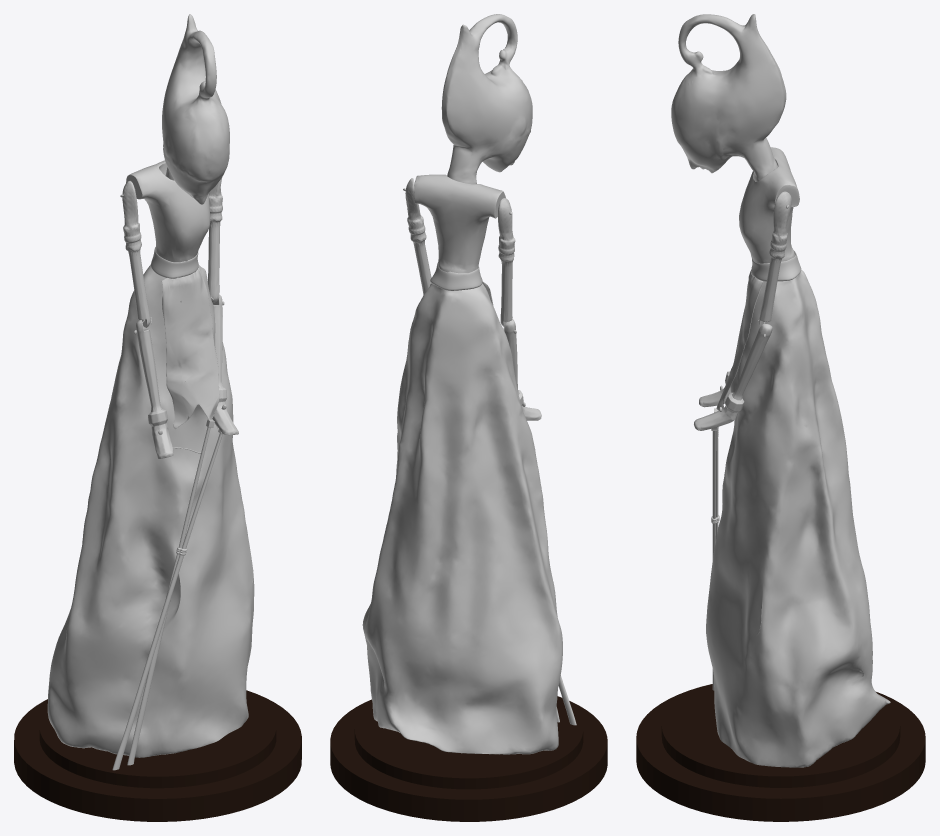
Rendered from hantu_wayang.obj.
3 renders of one model, left to right at view 1: azimuth 30°, elevation 25°; view 2: azimuth 150°, elevation 25°; view 3: azimuth 270°, elevation 25°, orthographic. The views are drawn at different scales.
Parts seen in each view (by area): view 1: Wayang_Batik_Skirt, Wayang_Body_Arms, Wayang_Pedestal_Base, Wayang_Head_Gelung, Wayang_Pedestal_Tier; view 2: Wayang_Batik_Skirt, Wayang_Pedestal_Base, Wayang_Head_Gelung, Wayang_Body_Arms, Wayang_Pedestal_Tier; view 3: Wayang_Batik_Skirt, Wayang_Head_Gelung, Wayang_Pedestal_Base, Wayang_Pedestal_Tier, Wayang_Body_Arms.
Part boxes in pixels (x1,y1,x2,y2): Wayang_Batik_Skirt: [47, 264, 254, 757]; Wayang_Body_Arms: [112, 160, 238, 770]; Wayang_Pedestal_Base: [14, 690, 301, 821]; Wayang_Head_Gelung: [151, 14, 229, 278]; Wayang_Pedestal_Tier: [39, 693, 276, 788]; Wayang_Batik_Skirt: [362, 283, 562, 754]; Wayang_Pedestal_Base: [330, 696, 607, 821]; Wayang_Head_Gelung: [430, 14, 532, 290]; Wayang_Body_Arms: [403, 174, 576, 725]; Wayang_Pedestal_Tier: [354, 699, 583, 789]; Wayang_Batik_Skirt: [706, 270, 890, 767]; Wayang_Head_Gelung: [671, 14, 801, 281]; Wayang_Pedestal_Base: [636, 684, 925, 821]; Wayang_Pedestal_Tier: [661, 685, 900, 787]; Wayang_Body_Arms: [694, 147, 799, 690].
Size of the model in its own units: 0.68 by 1.96 by 0.68.
